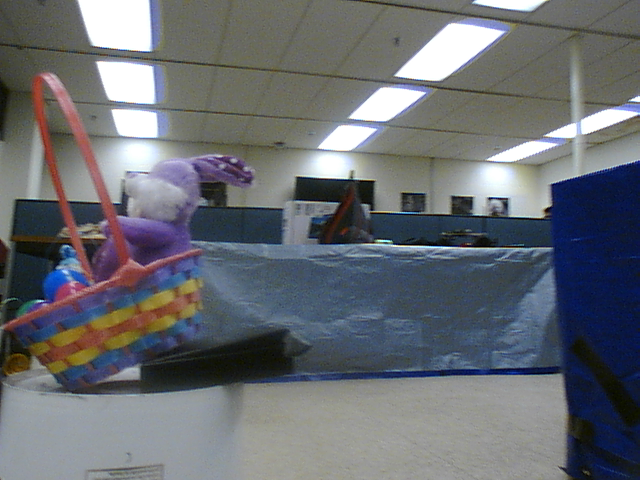bunny: (7, 80, 256, 396)
